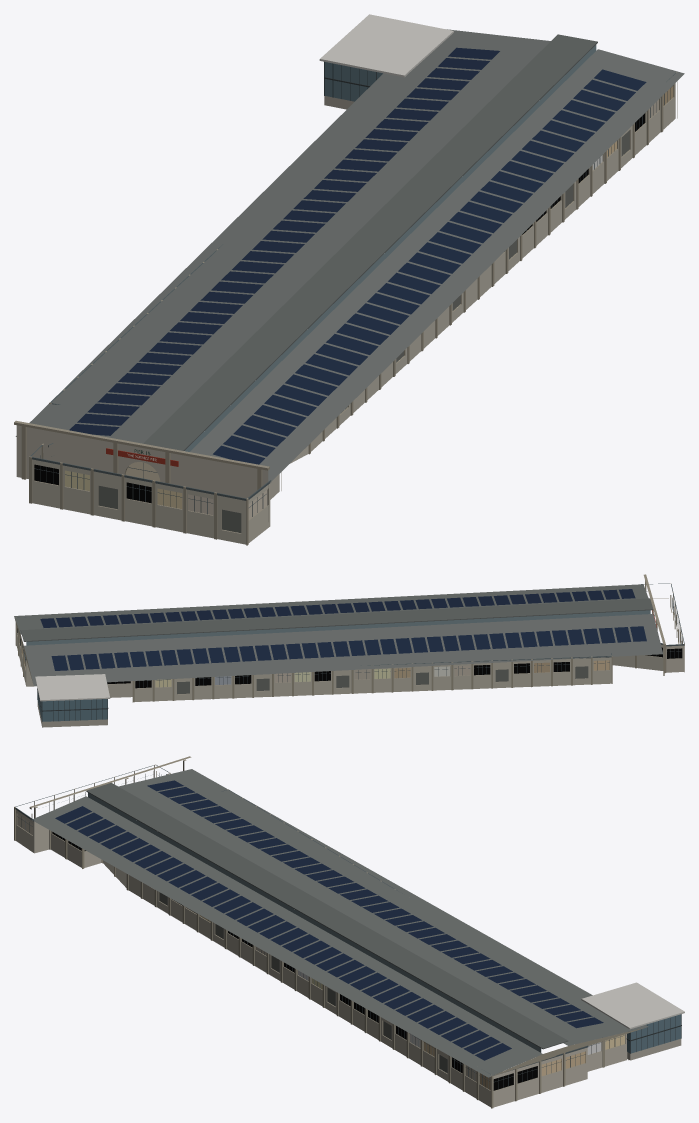
Rendered from exploratorium_lod0.glb.
3 views of the same model, one above another, from view 1: azimuth 30°, elevation 25°; view 2: azimuth 150°, elevation 25°; view 3: azimuth 270°, elevation 25° (orthographic). The views are drawn at different scales.
Visible parts, largest first — view 1: L0_roof, L0_glassc, L0_stucco, L0_win, L0_metal, L0_paint; view 2: L0_roof, L0_glassc, L0_stucco, L0_win, L0_metal, L0_paint, L0_concrete; view 3: L0_roof, L0_glassc, L0_stucco, L0_win, L0_metal, L0_paint.
Part boxes in pixels (x1,y1,x2,y2): L0_roof: [15, 14, 684, 482]; L0_glassc: [69, 45, 646, 464]; L0_stucco: [14, 72, 677, 545]; L0_win: [34, 86, 673, 519]; L0_metal: [34, 61, 672, 532]; L0_paint: [30, 73, 675, 500]; L0_roof: [14, 584, 662, 701]; L0_glassc: [26, 589, 650, 721]; L0_stucco: [14, 574, 684, 702]; L0_win: [17, 628, 682, 688]; L0_metal: [17, 591, 682, 721]; L0_paint: [17, 583, 684, 665]; L0_concrete: [37, 701, 107, 727]; L0_roof: [31, 769, 684, 1077]; L0_glassc: [55, 780, 681, 1060]; L0_stucco: [14, 756, 645, 1108]; L0_win: [17, 814, 624, 1090]; L0_metal: [17, 773, 681, 1089]; L0_paint: [15, 765, 588, 1075].
Bounding box in the file's own units: 234 × 15.6 × 213.
